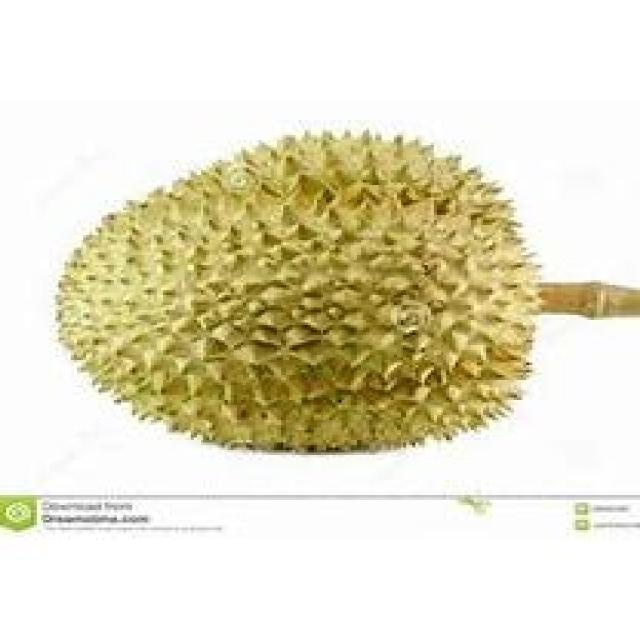agrume: (55, 90, 553, 470)
